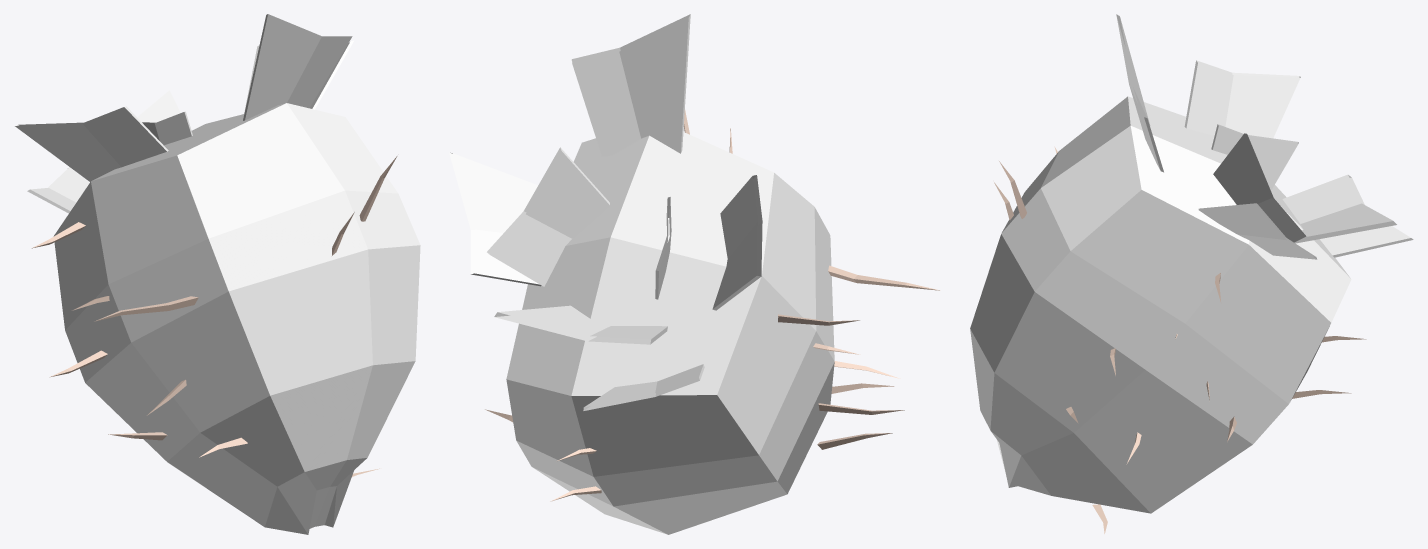
Rendered from Chard_Harvested.fbx.
The picture shows the model from 3 angles, left to right: view 1: azimuth 30°, elevation 25°; view 2: azimuth 150°, elevation 25°; view 3: azimuth 270°, elevation 25°; orthographic projection. The views are drawn at different scales.
Visible parts, largest first — view 1: Chard_Harvested; view 2: Chard_Harvested; view 3: Chard_Harvested.
Part boxes in pixels (box(x1,y1,x2,y2)): Chard_Harvested: box(15, 14, 420, 534); Chard_Harvested: box(449, 14, 940, 534); Chard_Harvested: box(970, 14, 1413, 533).
Size of the model in its own units: 10.28 by 12.67 by 10.86.
